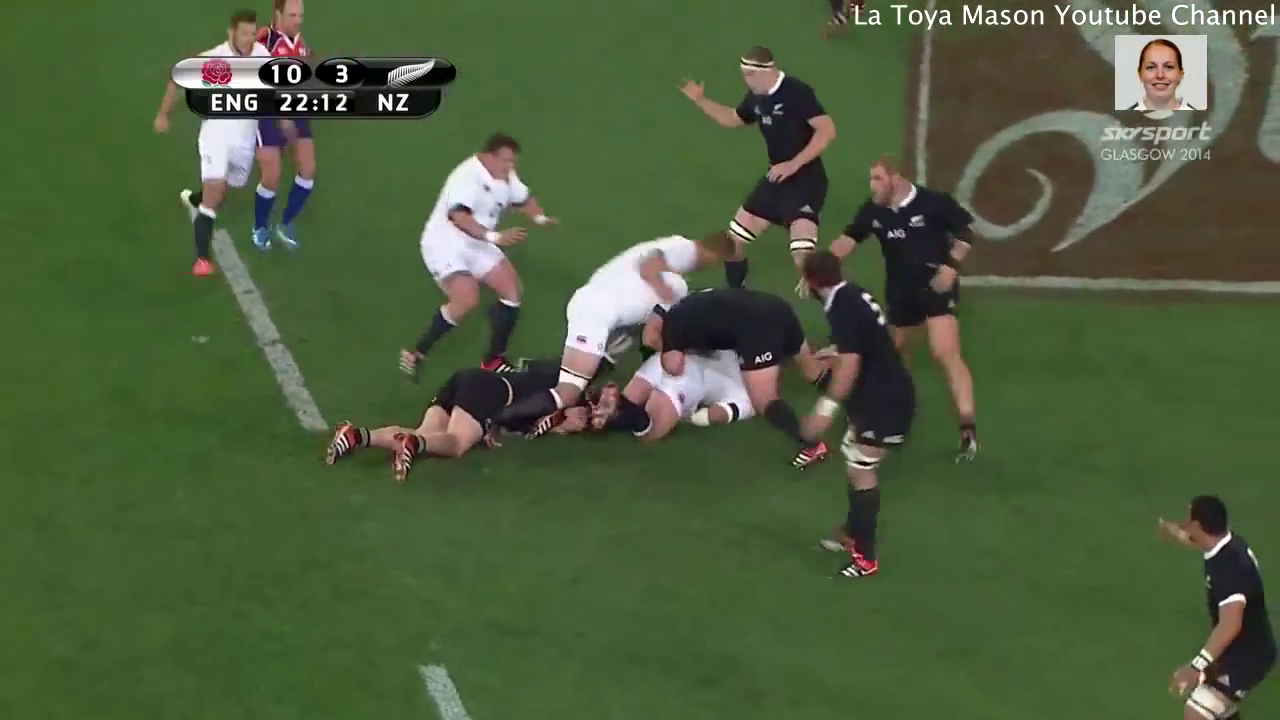player: (796, 151, 992, 468), (493, 220, 735, 439), (667, 37, 858, 295), (385, 122, 555, 384), (779, 242, 907, 585), (649, 281, 846, 461), (153, 4, 277, 288), (1137, 480, 1280, 720), (320, 358, 589, 473), (254, 1, 325, 252), (588, 342, 758, 434)
ruck: (311, 250, 827, 485)
